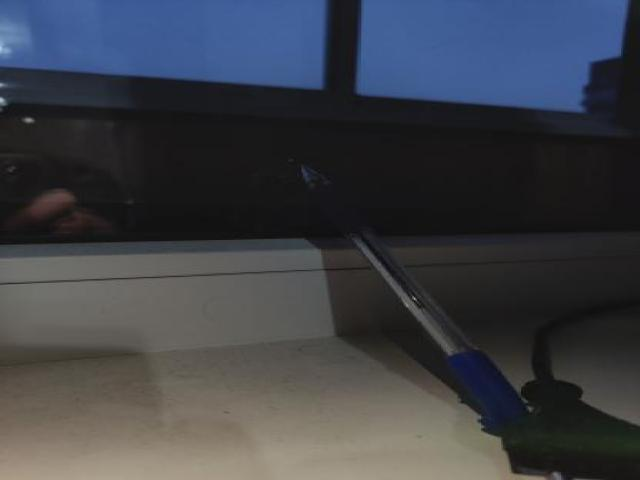PEN: (262, 141, 536, 447)
